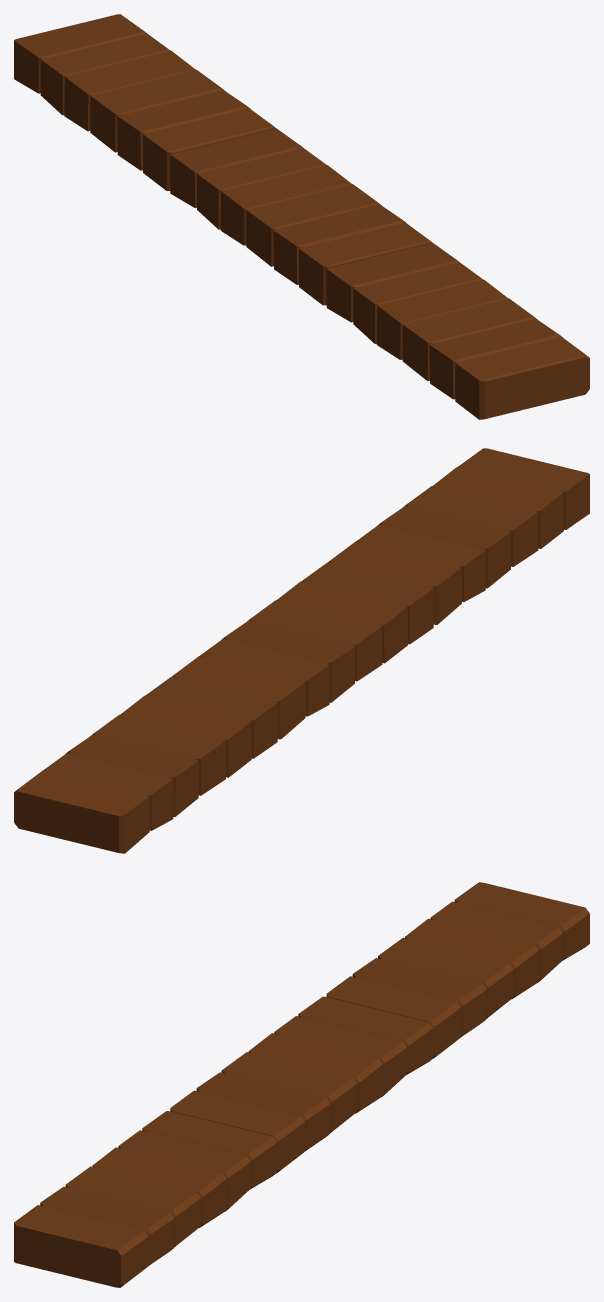
The model's file is 3 wood platform.fbx.
The picture shows the model from 3 angles, top to bottom: view 1: azimuth 30°, elevation 25°; view 2: azimuth 150°, elevation 25°; view 3: azimuth 330°, elevation 25°; orthographic projection.
Visible parts, largest first — view 1: Cube; view 2: Cube; view 3: Cube.
Part boxes in pixels (box(x1,y1,x2,y2)): Cube: box(14, 14, 589, 419); Cube: box(14, 448, 589, 853); Cube: box(14, 882, 589, 1287).
Size of the model in its own units: 591 by 207 by 4328.
